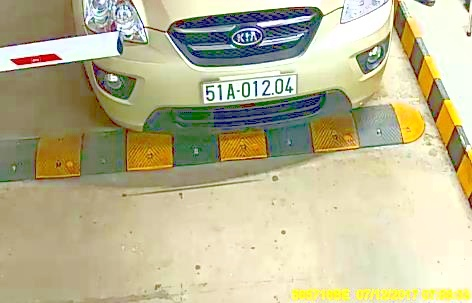plate: (199, 74, 300, 106)
